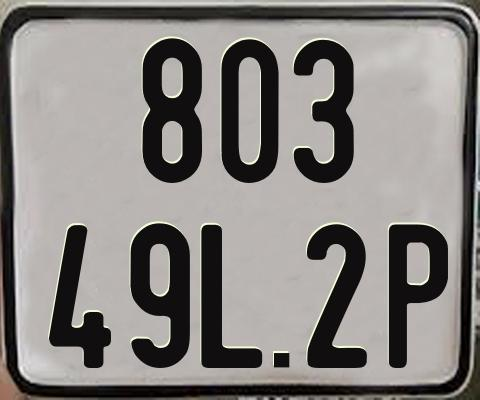0: (221, 37, 284, 186)
2: (305, 221, 367, 367)
3: (292, 38, 356, 182)
4: (48, 225, 113, 372)
8: (139, 36, 203, 181)
9: (130, 220, 190, 365)
L: (201, 225, 268, 371)
P: (388, 221, 452, 370)
